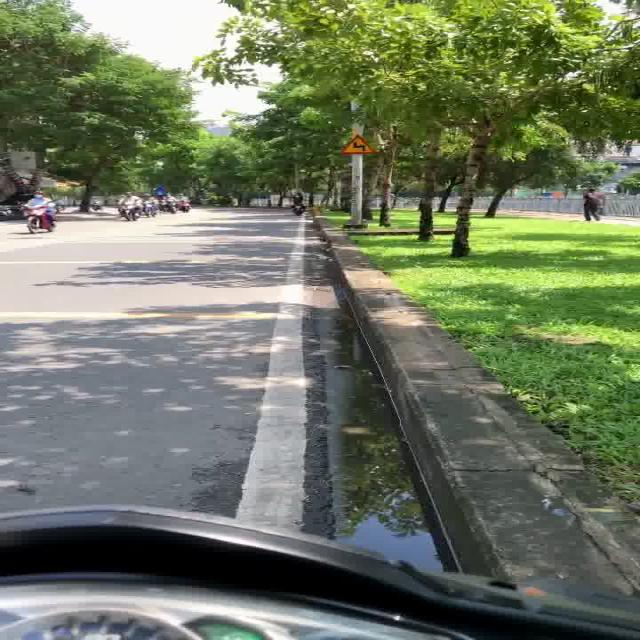Bien bao nhieu cho ngoat nguy hiem lien tiep: (334, 130, 384, 156)
